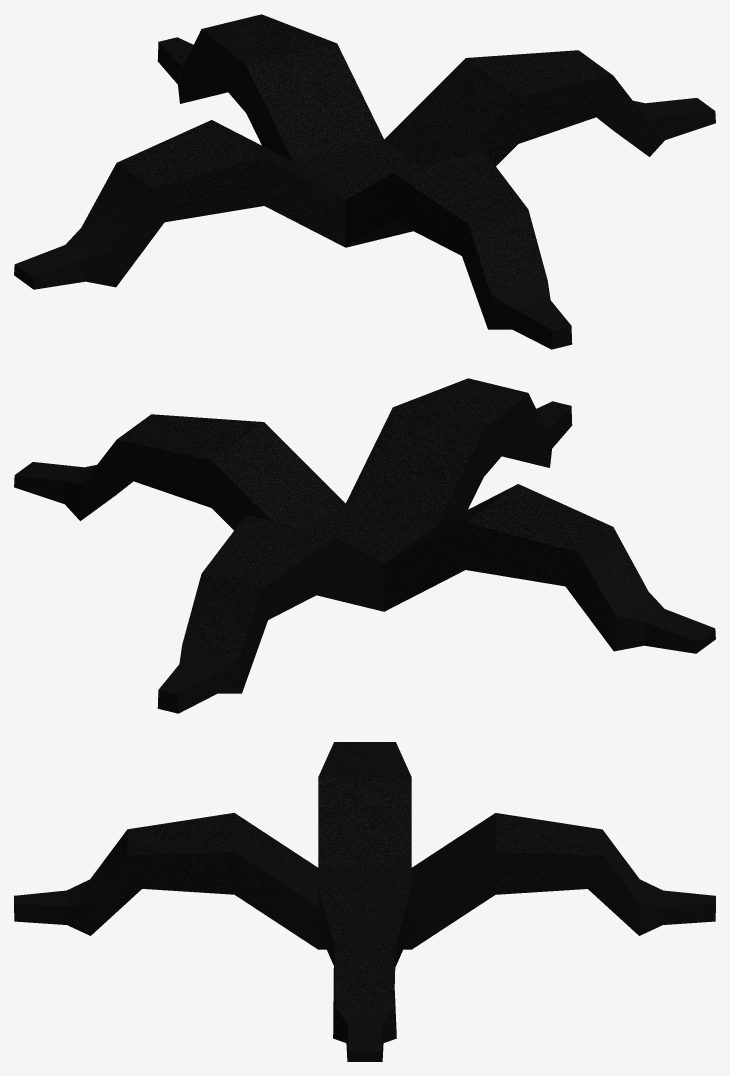
File: vlammenwerper.obj
3 renders of one model, top to bottom at view 1: azimuth 30°, elevation 25°; view 2: azimuth 150°, elevation 25°; view 3: azimuth 270°, elevation 25°, orthographic. The views are drawn at different scales.
Parts seen in each view (by area): view 1: vlammenwerper; view 2: vlammenwerper; view 3: vlammenwerper.
Boxes of the visible parts, <box> form: vlammenwerper: <box>14,14,715,349</box>; vlammenwerper: <box>14,378,715,713</box>; vlammenwerper: <box>14,742,715,1061</box>.
Size of the model in its own units: 3 by 0.4592 by 3.
Materials: 1 (1 with a texture image).
